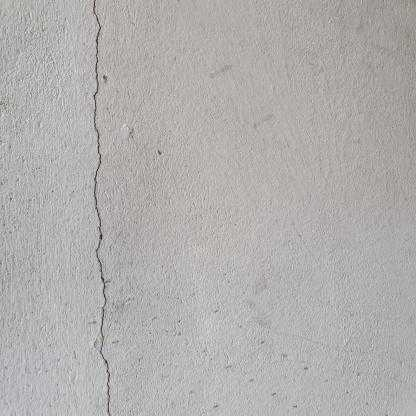crack: (93, 0, 111, 415)
